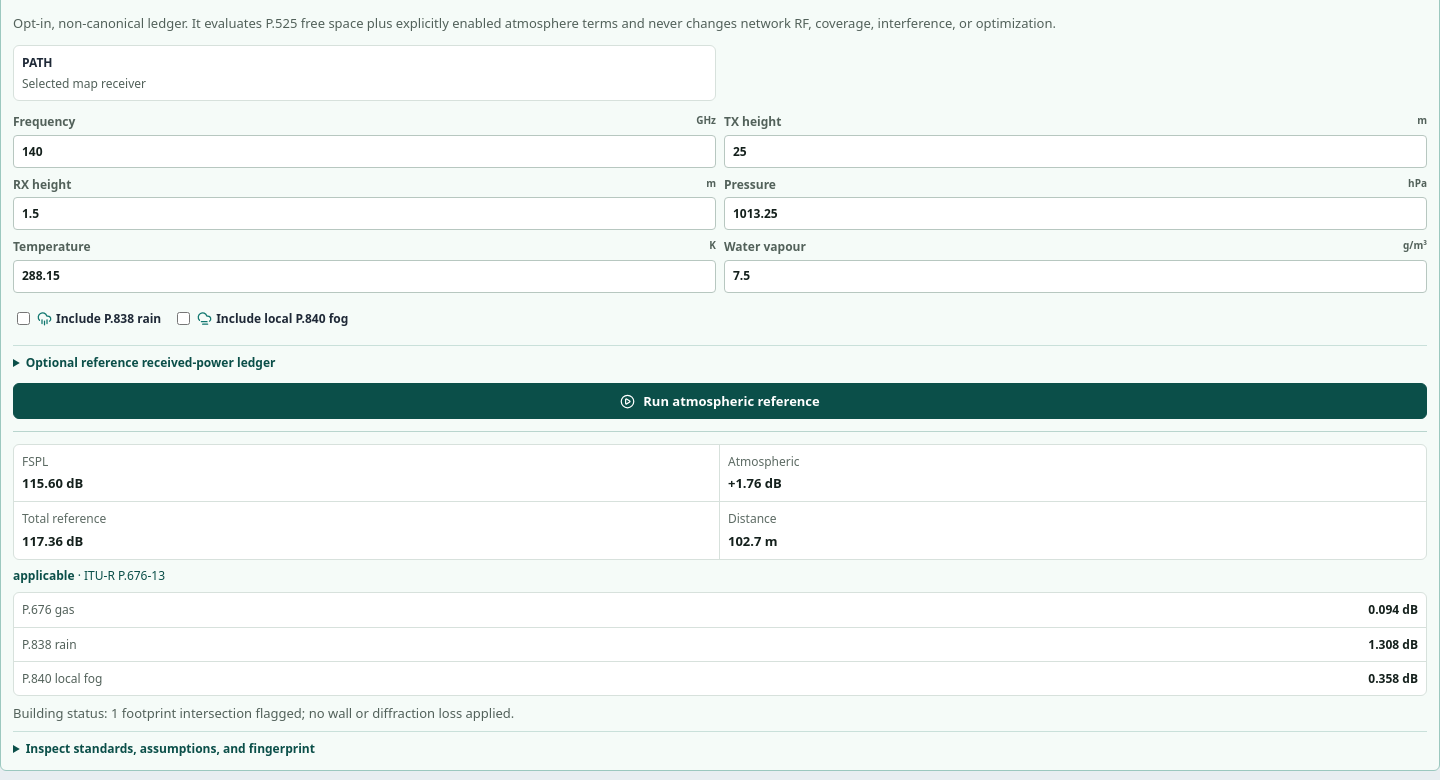
Test: SubTHZReferencePanel › renders the standards ledger without implying receiver serviceability
Check: the text "117.36 dB" is shown, box [22,532,83,550]
Check: the text "no wall or diffraction loss applied" is shown, box [111,704,514,722]
Click the heading "Inspect standards, assumptions, and fingerprint": click(170, 749) [26,740,315,757]
(page scrolled)
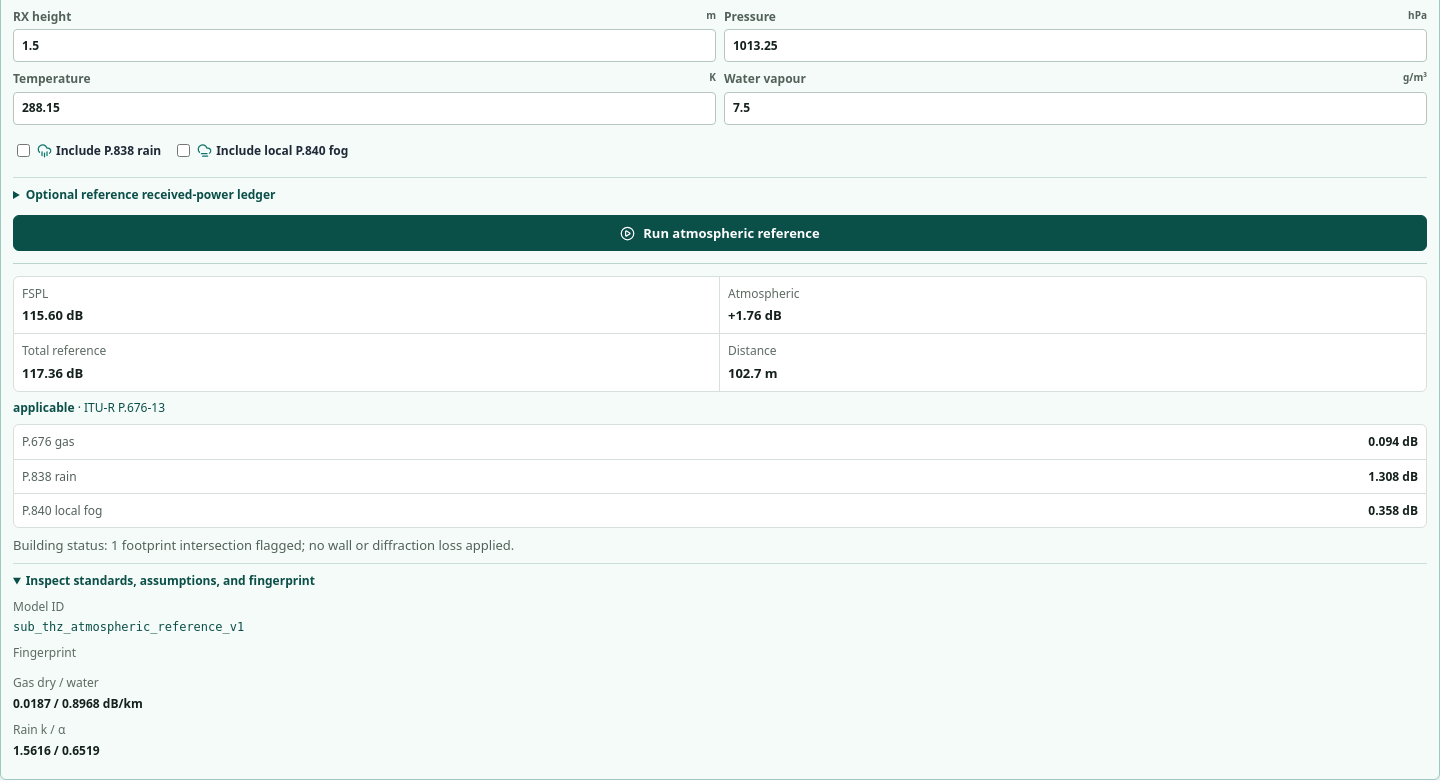
Check: the text "sub_thz_atmospheric_reference_v1" is shown, box [13,620,244,634]
